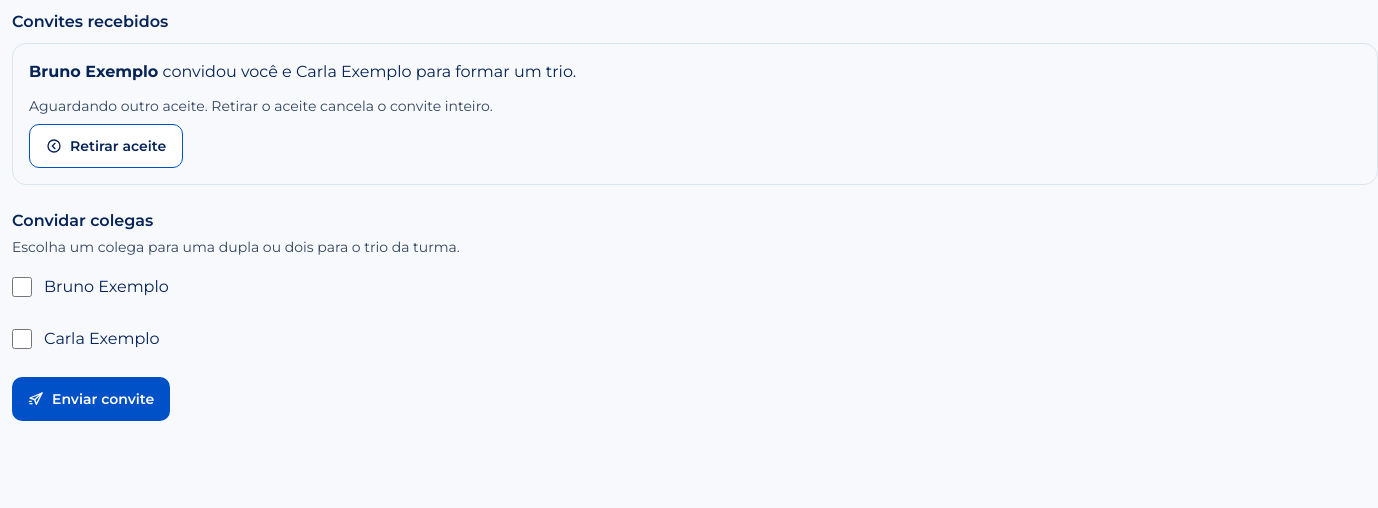
Scenario: ConvitesEquipe — trio (US2) › depois do próprio aceite, aguarda o outro convidado e permite retirar o aceite
Expected: the text "Retirar o aceite cancela o convite inteiro" is shown, x1=29 y1=97 x2=493 y2=115
What coordinates should you click on to do the following:
click the button "Retirar aceite"
I would click on:
 (106, 146)
Its box is x1=29 y1=124 x2=183 y2=168.
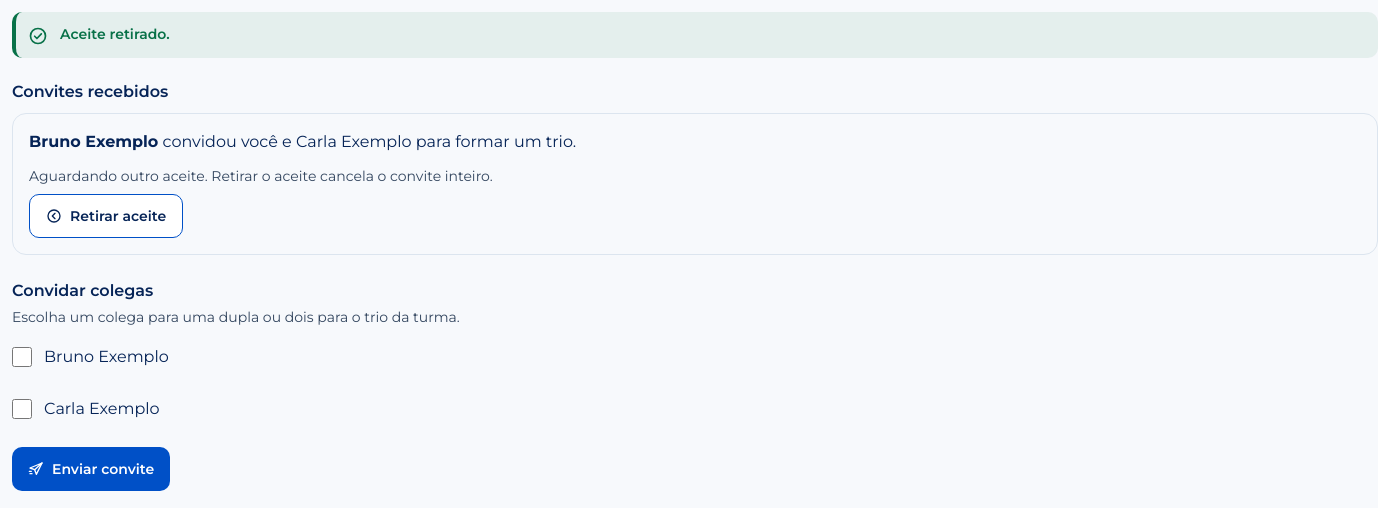
Now the message reads "Aceite retirado.", box x1=60 y1=25 x2=170 y2=43
